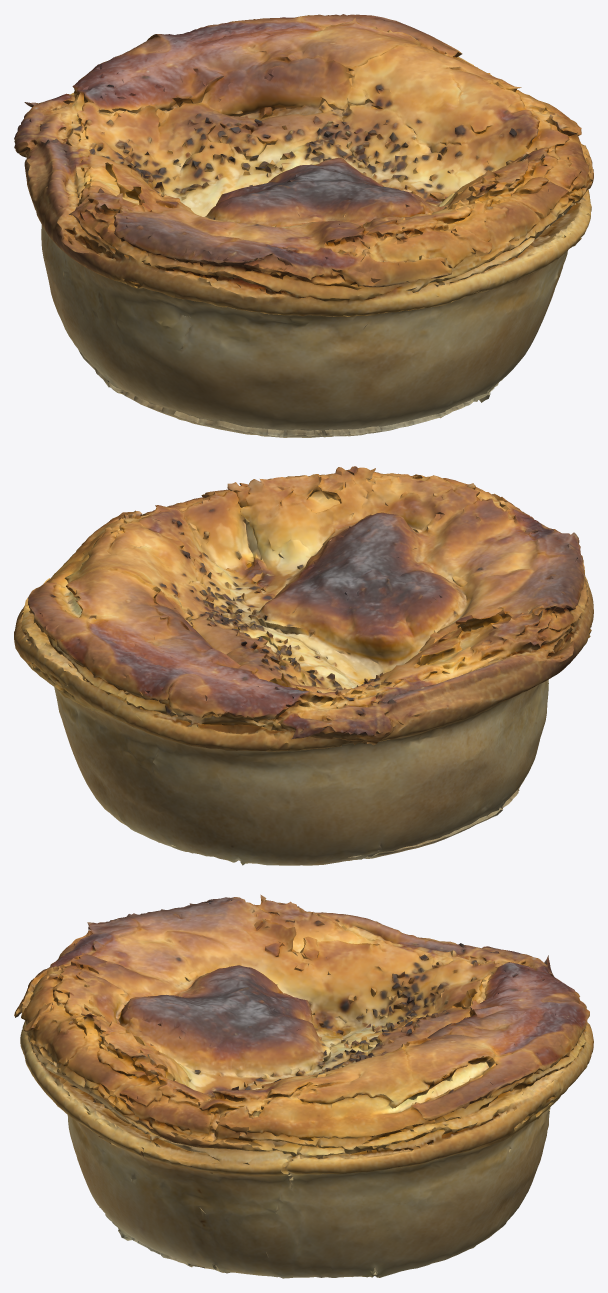
Rendered from meat-pie.glb.
3 renders of one model, top to bottom at view 1: azimuth 30°, elevation 25°; view 2: azimuth 150°, elevation 25°; view 3: azimuth 270°, elevation 25°, orthographic. The views are drawn at different scales.
Parts seen in each view (by area): view 1: Pie_Model; view 2: Pie_Model; view 3: Pie_Model.
Part boxes in pixels (x1,y1,x2,y2): Pie_Model: (14, 14, 593, 437); Pie_Model: (14, 466, 593, 865); Pie_Model: (14, 894, 593, 1278).
Bounding box in the file's own units: 36.73 × 16.24 × 38.92.
Materials: 1 (1 with a texture image).
